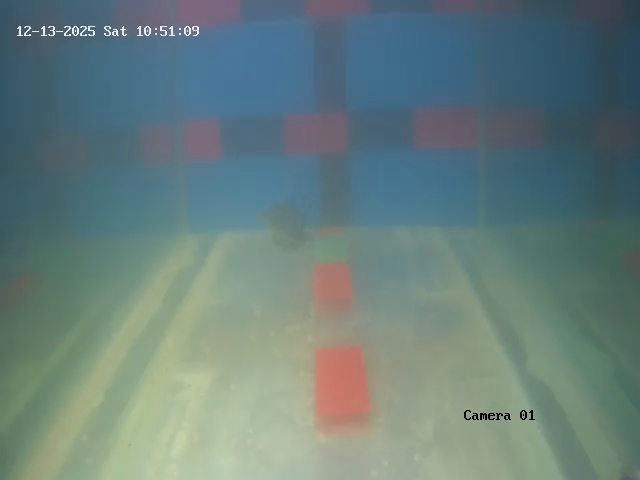fish: (264, 193, 323, 253)
